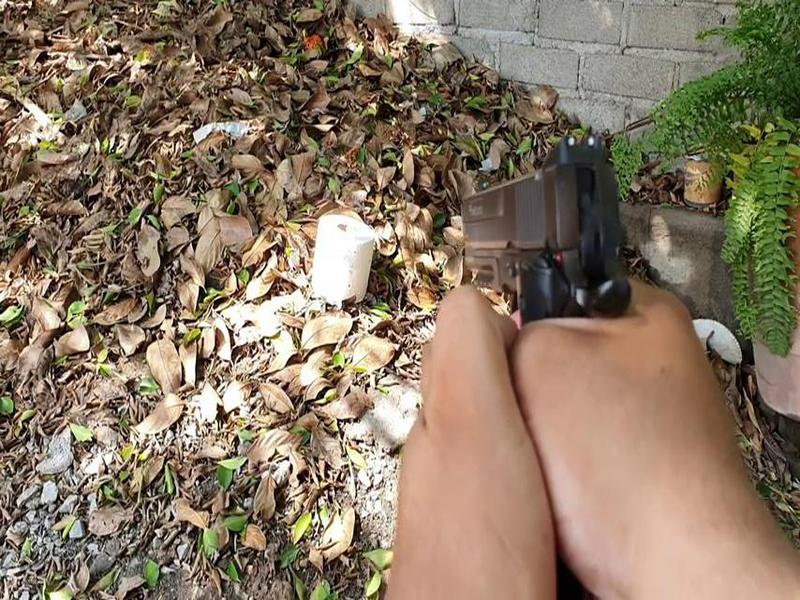Pistola: (408, 97, 661, 392)
